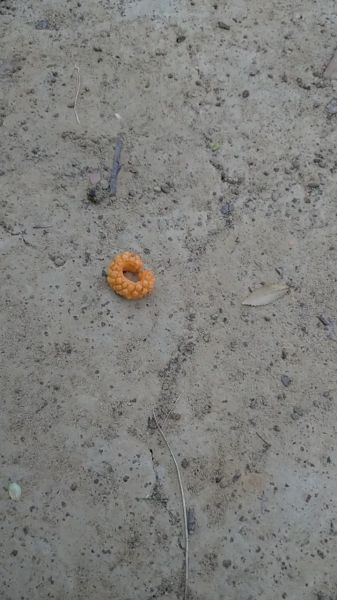eggs: (101, 239, 161, 317)
